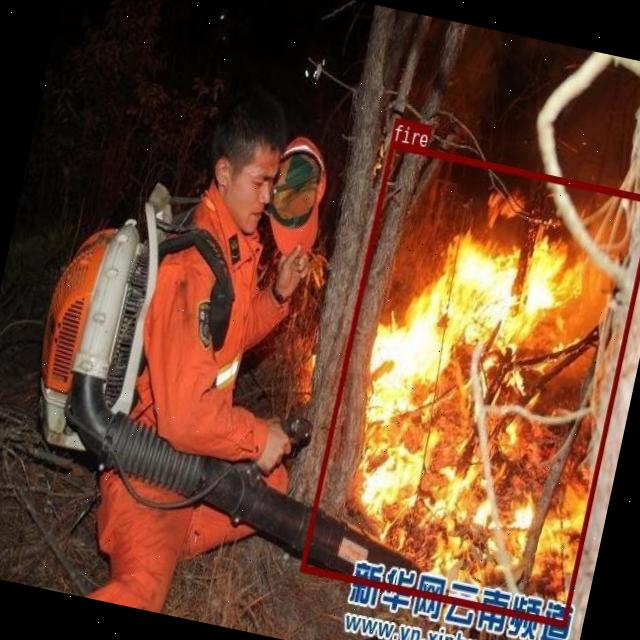fire: (298, 139, 640, 626)
